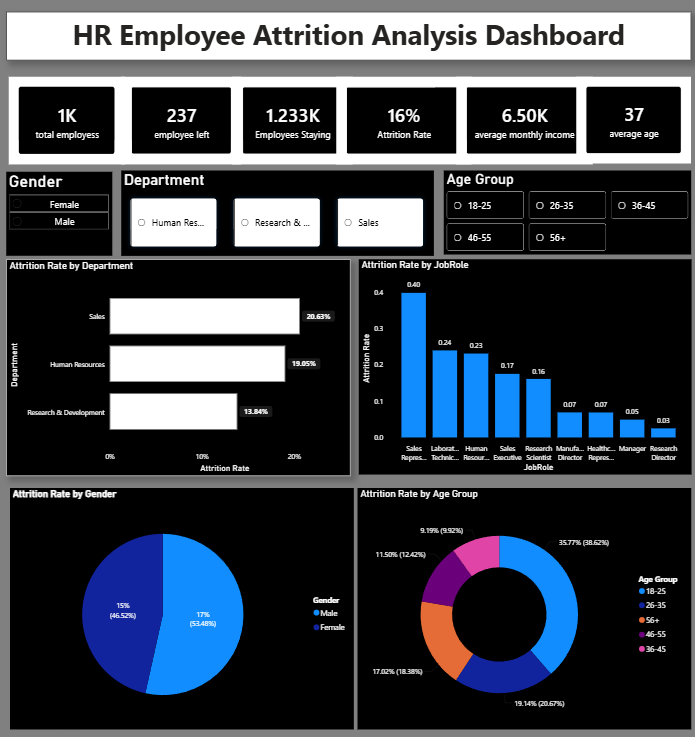

The dashboard page shown, as its layout file describes it:
{"tool":"powerbi","page":{"name":"dashbpard","canvas":[1300,1300],"ordinal":0},"visuals":[{"type":"cardVisual","fields":{"Data":["WA_Fn-UseC_-HR-Employee-Attrition.Measure"]},"box":[289.7,145.9,209.1,152.5],"z":0},{"type":"cardVisual","fields":{"Data":["WA_Fn-UseC_-HR-Employee-Attrition.Employees Staying"]},"box":[483.6,145.9,209.1,152.5],"z":1000},{"type":"cardVisual","fields":{"Data":["WA_Fn-UseC_-HR-Employee-Attrition.Attrition Rate"]},"box":[664.4,145.9,235.3,152.5],"z":2000},{"type":"cardVisual","fields":{"Data":["WA_Fn-UseC_-HR-Employee-Attrition.total employess"]},"box":[93.7,145.9,202.6,152.5],"z":3000},{"type":"cardVisual","fields":{"Data":["WA_Fn-UseC_-HR-Employee-Attrition.average monthly income"]},"box":[873.5,145.9,237.4,152.5],"z":4000},{"type":"clusteredBarChart","fields":{"Y":["WA_Fn-UseC_-HR-Employee-Attrition.Attrition Rate"],"Category":["WA_Fn-UseC_-HR-Employee-Attrition.Department"]},"box":[88.9,464.4,600,377.8],"z":5000},{"type":"clusteredColumnChart","fields":{"Category":["WA_Fn-UseC_-HR-Employee-Attrition.JobRole"],"Y":["WA_Fn-UseC_-HR-Employee-Attrition.Attrition Rate"]},"box":[704.4,464.4,580,375.6],"z":6000},{"type":"cardVisual","fields":{"Data":["WA_Fn-UseC_-HR-Employee-Attrition.average age"]},"box":[1082.2,146.7,200,151.1],"z":7000},{"type":"pieChart","fields":{"Y":["WA_Fn-UseC_-HR-Employee-Attrition.Attrition Rate"],"Category":["WA_Fn-UseC_-HR-Employee-Attrition.OverTime"]},"box":[95.8,862.6,599,420.4],"z":8000},{"type":"donutChart","fields":{"Y":["WA_Fn-UseC_-HR-Employee-Attrition.Attrition Rate"],"Category":["WA_Fn-UseC_-HR-Employee-Attrition.Age Group"]},"box":[701.4,862.6,581.6,420.4],"z":9000},{"type":"textbox","box":[89.3,32.7,1193.7,85],"z":11000},{"type":"advancedSlicerVisual","fields":{"Values":["WA_Fn-UseC_-HR-Employee-Attrition.Department"]},"box":[288.9,308.9,544.4,148.9],"z":11001},{"type":"listSlicer","fields":{"Values":["WA_Fn-UseC_-HR-Employee-Attrition.Gender"]},"box":[88.9,311.1,184.4,146.7],"z":11002},{"type":"advancedSlicerVisual","fields":{"Values":["WA_Fn-UseC_-HR-Employee-Attrition.Age Group"]},"box":[851.1,308.9,431.1,146.7],"z":11003}]}

Visuals, with their boxes in screenshot pixels (x1, y1, x2, y2):
cardVisual - WA_Fn-UseC_-HR-Employee-Attrition.Measure: bbox(124, 77, 242, 163)
cardVisual - WA_Fn-UseC_-HR-Employee-Attrition.Employees Staying: bbox(234, 77, 352, 163)
cardVisual - WA_Fn-UseC_-HR-Employee-Attrition.Attrition Rate: bbox(336, 77, 469, 163)
cardVisual - WA_Fn-UseC_-HR-Employee-Attrition.total employess: bbox(13, 77, 128, 163)
cardVisual - WA_Fn-UseC_-HR-Employee-Attrition.average monthly income: bbox(455, 77, 589, 163)
clusteredBarChart - WA_Fn-UseC_-HR-Employee-Attrition.Attrition Rate x WA_Fn-UseC_-HR-Employee-Attrition.Department: bbox(10, 257, 350, 471)
clusteredColumnChart - WA_Fn-UseC_-HR-Employee-Attrition.JobRole x WA_Fn-UseC_-HR-Employee-Attrition.Attrition Rate: bbox(359, 257, 687, 470)
cardVisual - WA_Fn-UseC_-HR-Employee-Attrition.average age: bbox(573, 77, 686, 163)
pieChart - WA_Fn-UseC_-HR-Employee-Attrition.Attrition Rate x WA_Fn-UseC_-HR-Employee-Attrition.OverTime: bbox(14, 483, 353, 721)
donutChart - WA_Fn-UseC_-HR-Employee-Attrition.Attrition Rate x WA_Fn-UseC_-HR-Employee-Attrition.Age Group: bbox(357, 483, 687, 721)
textbox: bbox(10, 13, 687, 61)
advancedSlicerVisual - WA_Fn-UseC_-HR-Employee-Attrition.Department: bbox(123, 169, 432, 254)
listSlicer - WA_Fn-UseC_-HR-Employee-Attrition.Gender: bbox(10, 170, 115, 254)
advancedSlicerVisual - WA_Fn-UseC_-HR-Employee-Attrition.Age Group: bbox(442, 169, 686, 252)
